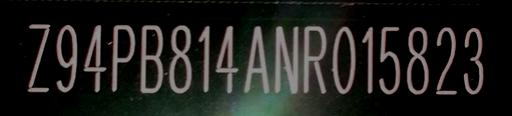letter: (79, 18, 113, 96), (240, 21, 274, 99), (167, 17, 199, 97), (136, 21, 170, 95), (213, 19, 245, 97), (272, 19, 304, 97), (301, 20, 333, 98), (106, 17, 138, 93), (24, 18, 56, 94), (402, 21, 434, 97), (459, 24, 491, 98), (53, 20, 83, 94), (330, 21, 360, 95), (433, 22, 461, 98), (376, 22, 404, 94), (194, 18, 218, 98), (358, 20, 380, 96)
